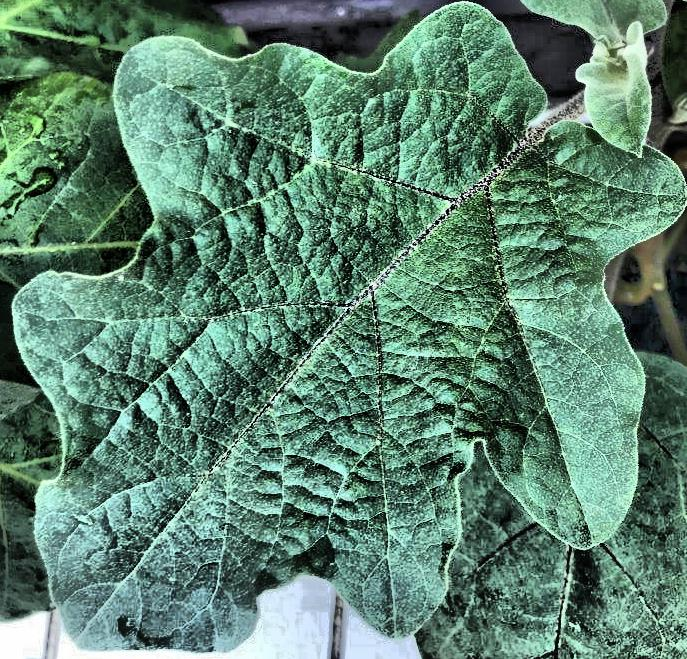HEALTHY: (0, 1, 687, 659)
